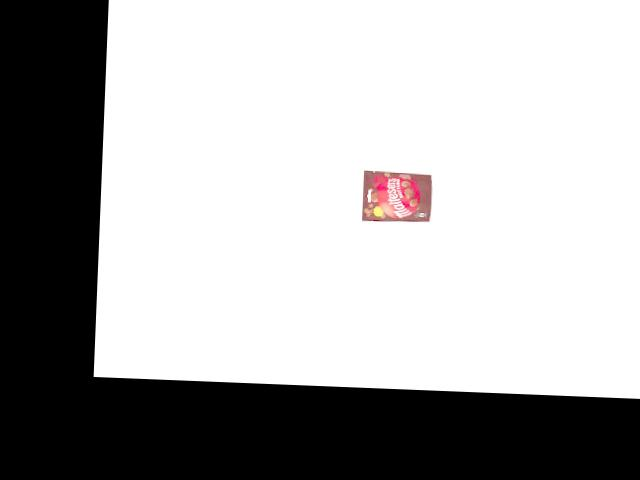chocolate: (360, 169, 434, 223)
